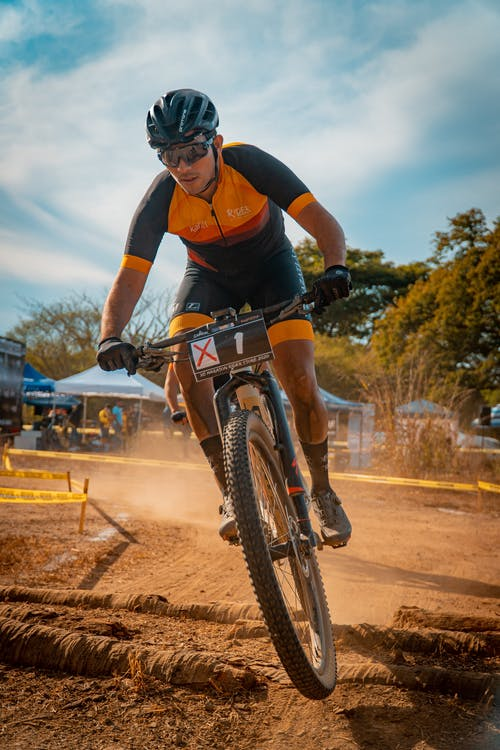bicycle: (92, 251, 357, 704)
